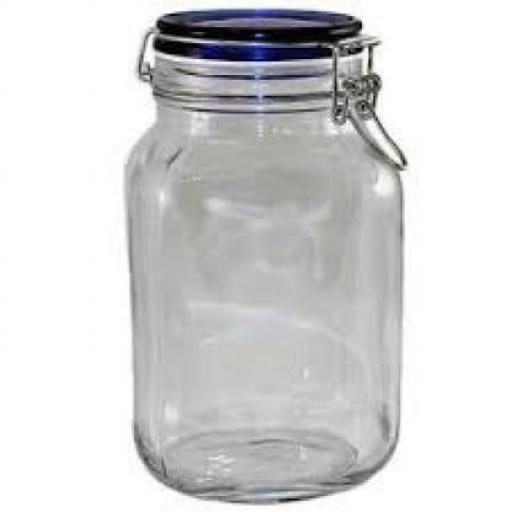glass: (123, 6, 403, 499)
